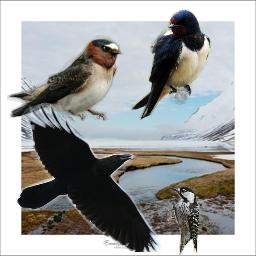Crow: (16, 102, 161, 252)
Swallow: (7, 35, 125, 122), (131, 9, 211, 122)
Woodpecker: (166, 186, 199, 255)
